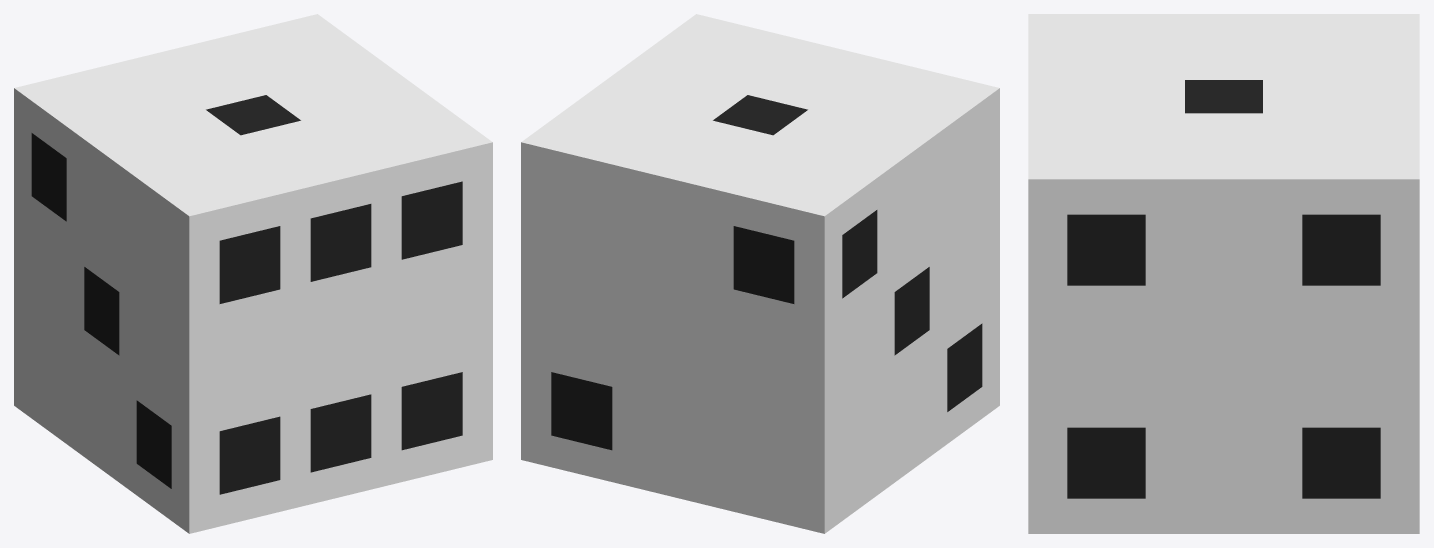
File: dado.obj
3 renders of one model, left to right at view 1: azimuth 30°, elevation 25°; view 2: azimuth 150°, elevation 25°; view 3: azimuth 270°, elevation 25°, orthographic. The views are drawn at different scales.
Size of the model in its own units: 1 by 1 by 1.
Materials: 1 (1 with a texture image).
